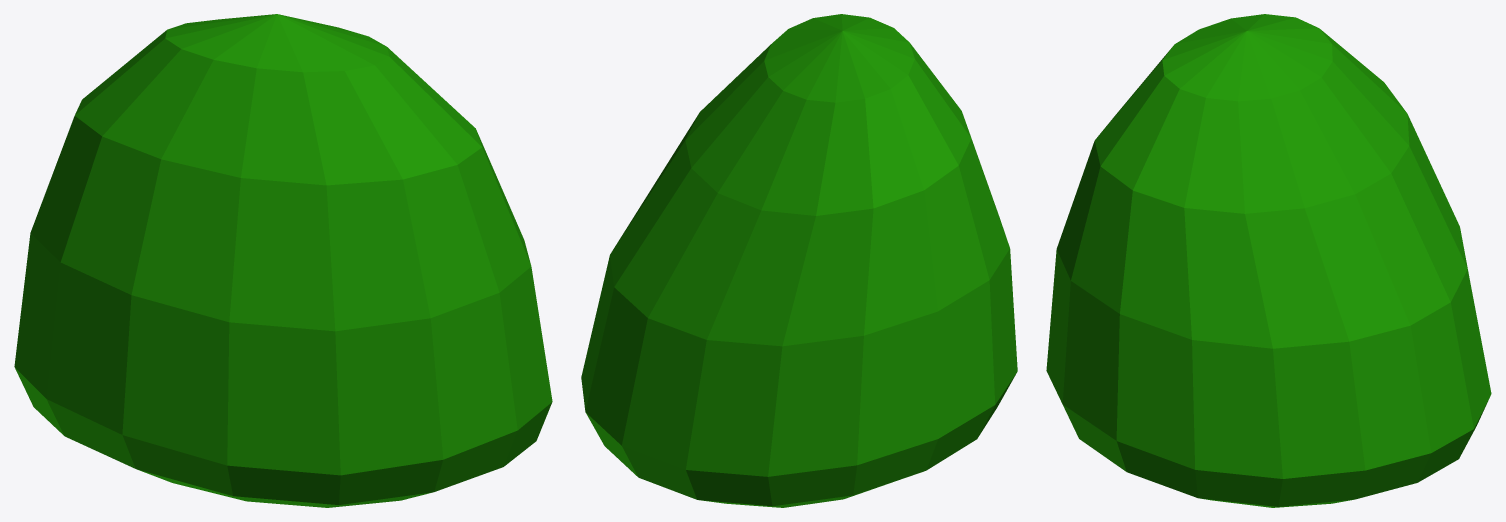
File: bush1_001.FBX
3 renders of one model, left to right at view 1: azimuth 30°, elevation 25°; view 2: azimuth 150°, elevation 25°; view 3: azimuth 270°, elevation 25°, orthographic. The views are drawn at different scales.
Parts seen in each view (by area): view 1: bush1_001; view 2: bush1_001; view 3: bush1_001.
Boxes of the visible parts, x1,y1,x2,y2 form: bush1_001: [14, 14, 552, 507]; bush1_001: [581, 14, 1017, 507]; bush1_001: [1046, 14, 1491, 507].
Bounding box in the file's own units: 78.74 × 79.96 × 78.74.
